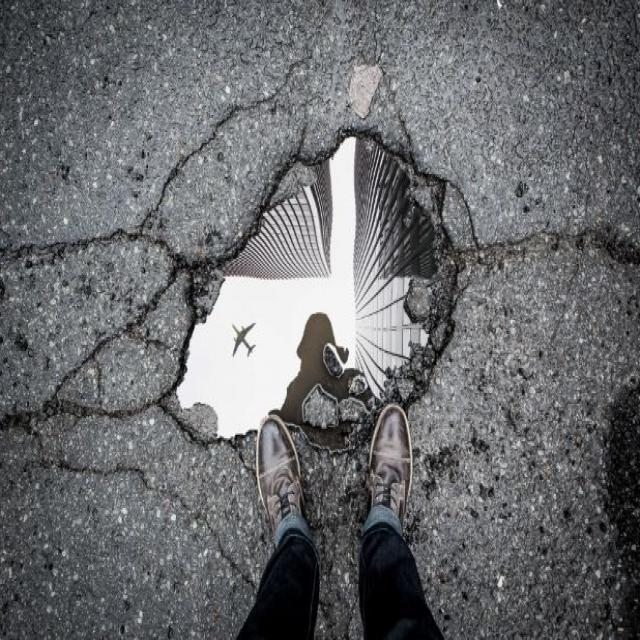Pothole: (157, 110, 474, 449)
